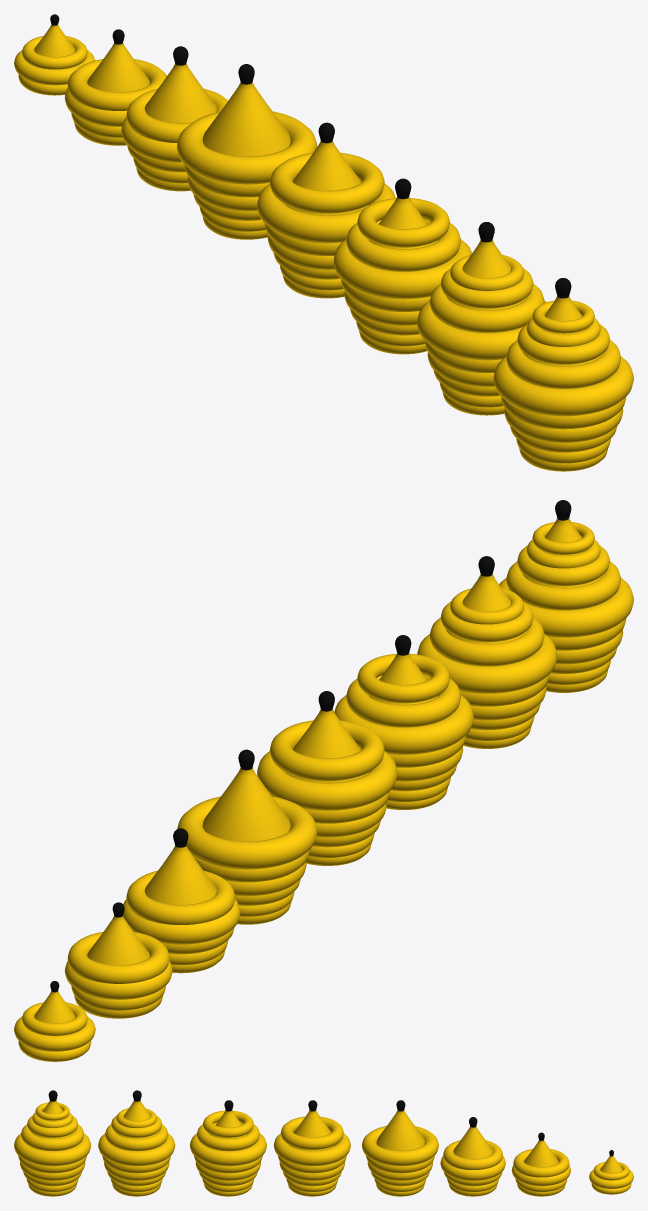
The model's file is BeeHome.fbx.
The picture shows the model from 3 angles, top to bottom: view 1: azimuth 30°, elevation 25°; view 2: azimuth 150°, elevation 25°; view 3: azimuth 270°, elevation 25°; orthographic projection. The views are drawn at different scales.
Parts seen in each view (by area): view 1: Torus.046, Torus.028, Torus.035, Torus.023, Torus.013, Torus.010, Torus.020, Cylinder.001; view 2: Torus.035, Torus.046, Torus.023, Torus.028, Torus.013, Torus.010, Torus.020, Cylinder.001; view 3: Torus.046, Torus.035, Torus.028, Torus.023, Torus.013, Torus.010, Torus.020, Cylinder.001.
Boxes of the visible parts, x1=… form: Torus.046: x1=493, y1=278, x2=633, y2=471; Torus.028: x1=333, y1=178, x2=471, y2=354; Torus.035: x1=417, y1=222, x2=546, y2=415; Torus.023: x1=257, y1=122, x2=395, y2=298; Torus.013: x1=176, y1=64, x2=317, y2=239; Torus.010: x1=121, y1=46, x2=227, y2=191; Torus.020: x1=64, y1=29, x2=166, y2=145; Cylinder.001: x1=14, y1=14, x2=94, y2=95; Torus.035: x1=417, y1=556, x2=557, y2=748; Torus.046: x1=499, y1=500, x2=633, y2=692; Torus.023: x1=257, y1=691, x2=397, y2=865; Torus.028: x1=334, y1=635, x2=473, y2=809; Torus.013: x1=177, y1=749, x2=317, y2=924; Torus.010: x1=123, y1=828, x2=240, y2=973; Torus.020: x1=64, y1=902, x2=172, y2=1018; Cylinder.001: x1=14, y1=981, x2=95, y2=1061; Torus.046: x1=14, y1=1090, x2=90, y2=1196; Torus.035: x1=98, y1=1090, x2=175, y2=1196; Torus.028: x1=190, y1=1100, x2=266, y2=1196; Torus.023: x1=273, y1=1100, x2=350, y2=1196; Torus.013: x1=362, y1=1100, x2=438, y2=1196; Torus.010: x1=440, y1=1117, x2=505, y2=1196; Torus.020: x1=511, y1=1132, x2=570, y2=1196; Cylinder.001: x1=589, y1=1150, x2=633, y2=1194.
Size of the model in its own units: 316 by 435 by 2534.
